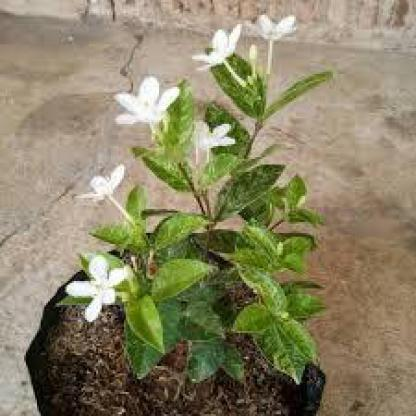Melati: (188, 6, 308, 88), (58, 247, 134, 326), (66, 149, 130, 206), (119, 64, 171, 130), (186, 116, 234, 162)
